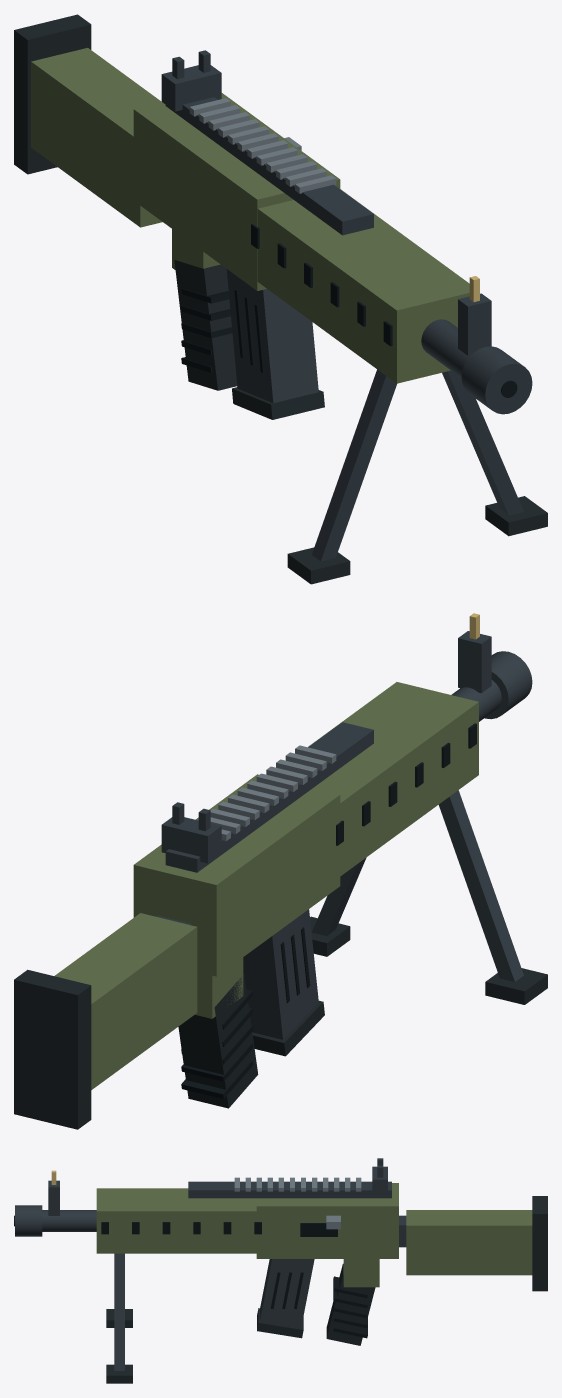
File: lmg_01_badger.glb
3 views of the same model, one above another, from view 1: azimuth 30°, elevation 25°; view 2: azimuth 150°, elevation 25°; view 3: azimuth 270°, elevation 25° (orthographic). The views are drawn at different scales.
Parts seen in each view (by area): view 1: handguard, receiver, stock_body, magazine, grip, buttpad, bipod_leg_-1, upper_rail, muzzle_device, bipod_leg_1, rear_sight_base, front_sight_base (+5 smaller); view 2: receiver, handguard, stock_body, buttpad, magazine, grip, bipod_leg_-1, upper_rail, rear_sight_base, muzzle_device, front_sight_base, grip_tang (+6 smaller); view 3: handguard, stock_body, receiver, upper_rail, magazine, grip, buttpad, bipod_leg_1, barrel, grip_tang, muzzle_device, magazine_base (+5 smaller).
Part boxes in pixels (x1=…): handguard: x1=257, y1=188, x2=469, y2=383; receiver: x1=133, y1=93, x2=340, y2=290; stock_body: x1=31, y1=48, x2=162, y2=227; magazine: x1=226, y1=269, x2=318, y2=403; grip: x1=174, y1=260, x2=237, y2=390; buttpad: x1=14, y1=14, x2=91, y2=174; bipod_leg_-1: x1=311, y1=369, x2=396, y2=561; upper_rail: x1=165, y1=97, x2=373, y2=235; muzzle_device: x1=461, y1=346, x2=532, y2=414; bipod_leg_1: x1=442, y1=370, x2=523, y2=515; rear_sight_base: x1=161, y1=65, x2=221, y2=111; front_sight_base: x1=458, y1=293, x2=491, y2=355; receiver: x1=133, y1=774, x2=340, y2=976; handguard: x1=308, y1=682, x2=478, y2=876; stock_body: x1=54, y1=913, x2=197, y2=1089; buttpad: x1=14, y1=969, x2=91, y2=1129; magazine: x1=243, y1=909, x2=318, y2=1039; grip: x1=178, y1=973, x2=258, y2=1108; bipod_leg_-1: x1=438, y1=790, x2=523, y2=981; upper_rail: x1=165, y1=722, x2=373, y2=872; rear_sight_base: x1=161, y1=817, x2=221, y2=863; muzzle_device: x1=484, y1=651, x2=532, y2=719; front_sight_base: x1=458, y1=631, x2=491, y2=693; grip_tang: x1=195, y1=957, x2=243, y2=1018; handguard: x1=96, y1=1188, x2=256, y2=1253; stock_body: x1=406, y1=1210, x2=532, y2=1275; receiver: x1=256, y1=1183, x2=398, y2=1258; upper_rail: x1=188, y1=1181, x2=391, y2=1198; magazine: x1=260, y1=1259, x2=314, y2=1328; grip: x1=326, y1=1263, x2=375, y2=1345; buttpad: x1=532, y1=1196, x2=547, y2=1291; bipod_leg_1: x1=114, y1=1253, x2=124, y2=1370; barrel: x1=42, y1=1210, x2=96, y2=1231; grip_tang: x1=343, y1=1259, x2=379, y2=1287; muzzle_device: x1=15, y1=1205, x2=42, y2=1236; magazine_base: x1=257, y1=1308, x2=303, y2=1338.
Size of the model in its own units: 0.271 by 0.3555 by 0.9185.
